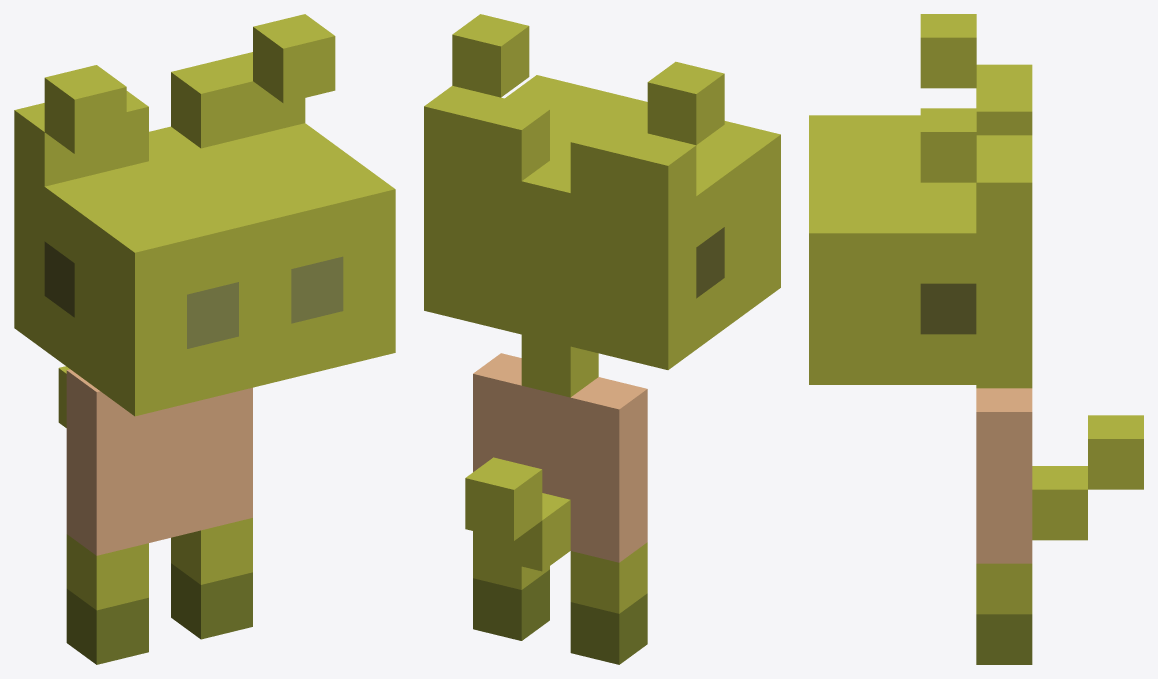
File: char-11x11-1-char-pig.obj
3 views of the same model, side by side, from view 1: azimuth 30°, elevation 25°; view 2: azimuth 150°, elevation 25°; view 3: azimuth 270°, elevation 25° (orthographic). The views are drawn at different scales.
Visible parts, largest first — view 1: char-pig; view 2: char-pig; view 3: char-pig.
Boxes of the visible parts, left/top/right/bottom form: char-pig: left=14, top=14, right=395, bottom=664; char-pig: left=424, top=14, right=780, bottom=664; char-pig: left=809, top=14, right=1143, bottom=664.
Bounding box in the file's own units: 0.5 × 1.1 × 0.6.
1 material, 1 textured.
